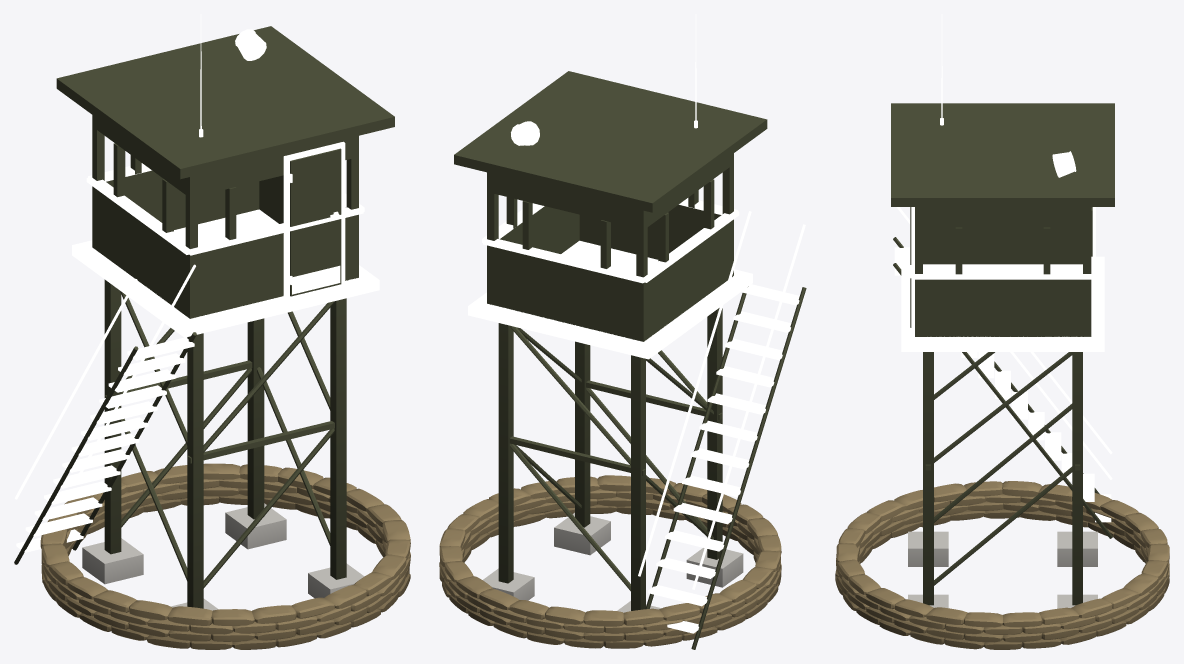
The model's file is guard_tower_steel.glb.
3 renders of one model, left to right at view 1: azimuth 30°, elevation 25°; view 2: azimuth 150°, elevation 25°; view 3: azimuth 270°, elevation 25°, orthographic. The views are drawn at different scales.
Visible parts, largest first — view 1: guard_tower_steel_LOD0; view 2: guard_tower_steel_LOD0; view 3: guard_tower_steel_LOD0.
Boxes of the visible parts, x1,y1,x2,y2 form: guard_tower_steel_LOD0: (14,14,410,649); guard_tower_steel_LOD0: (439,14,806,649); guard_tower_steel_LOD0: (835,14,1169,649).
Size of what is drawn, in the model's own units: 4.93 by 8.95 by 4.93.
